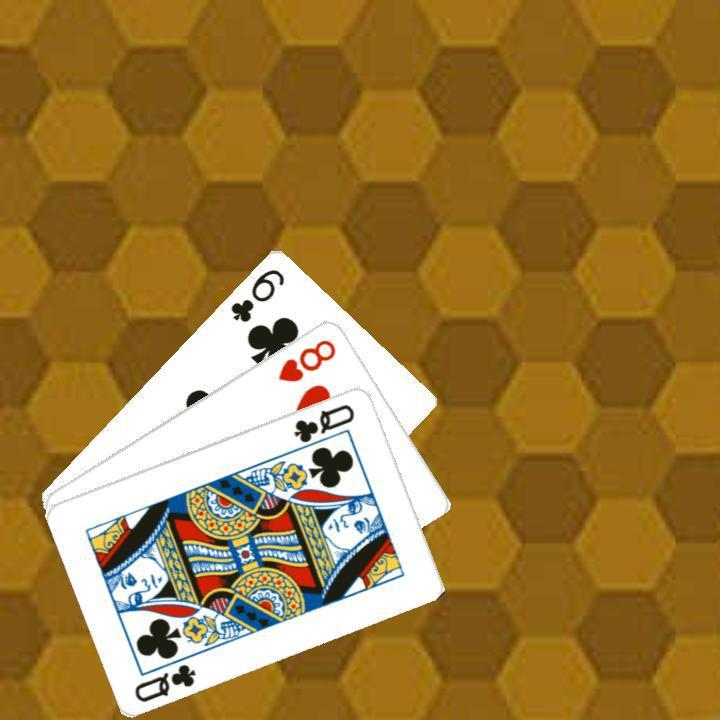6: (226, 263, 287, 324)
8: (273, 334, 339, 384)
Q: (289, 399, 357, 444), (130, 659, 198, 704)
